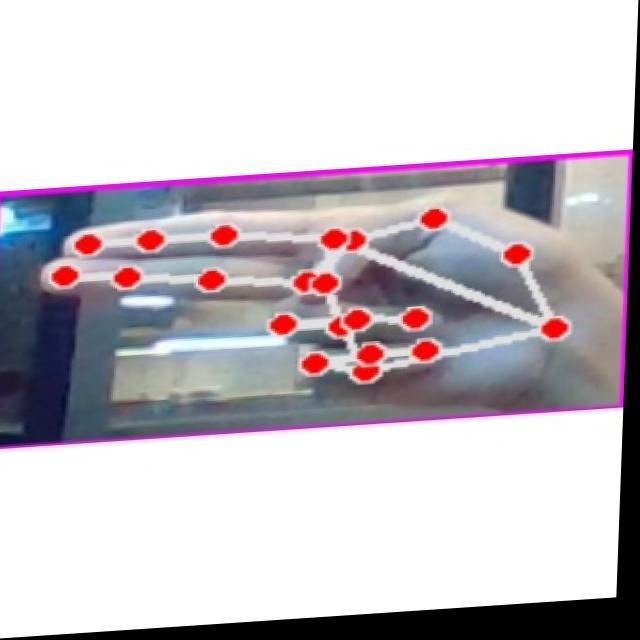H: (4, 176, 618, 442)
